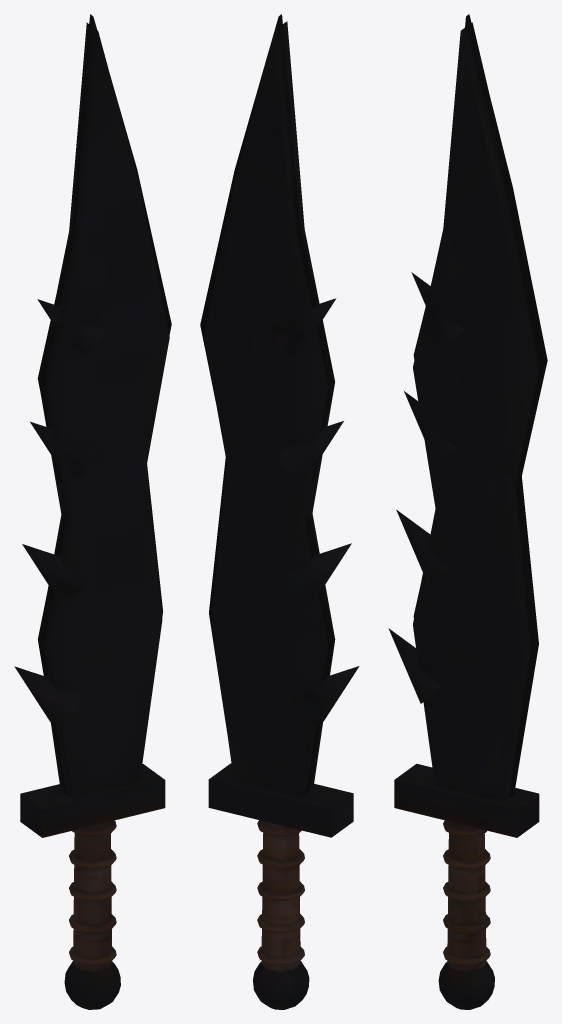
File: blade_obsidian_lo.glb
3 views of the same model, side by side, from view 1: azimuth 30°, elevation 25°; view 2: azimuth 150°, elevation 25°; view 3: azimuth 330°, elevation 25° (orthographic).
Parts seen in each view (by area): view 1: Blade_obsidian_lo; view 2: Blade_obsidian_lo; view 3: Blade_obsidian_lo.
Boxes of the visible parts, x1,y1,x2,y2 form: Blade_obsidian_lo: (14,14,171,1009); Blade_obsidian_lo: (200,14,359,1009); Blade_obsidian_lo: (388,14,547,1009).
Bounding box in the file's own units: 0.2044 × 1.23 × 0.064.
1 material, 1 textured.
